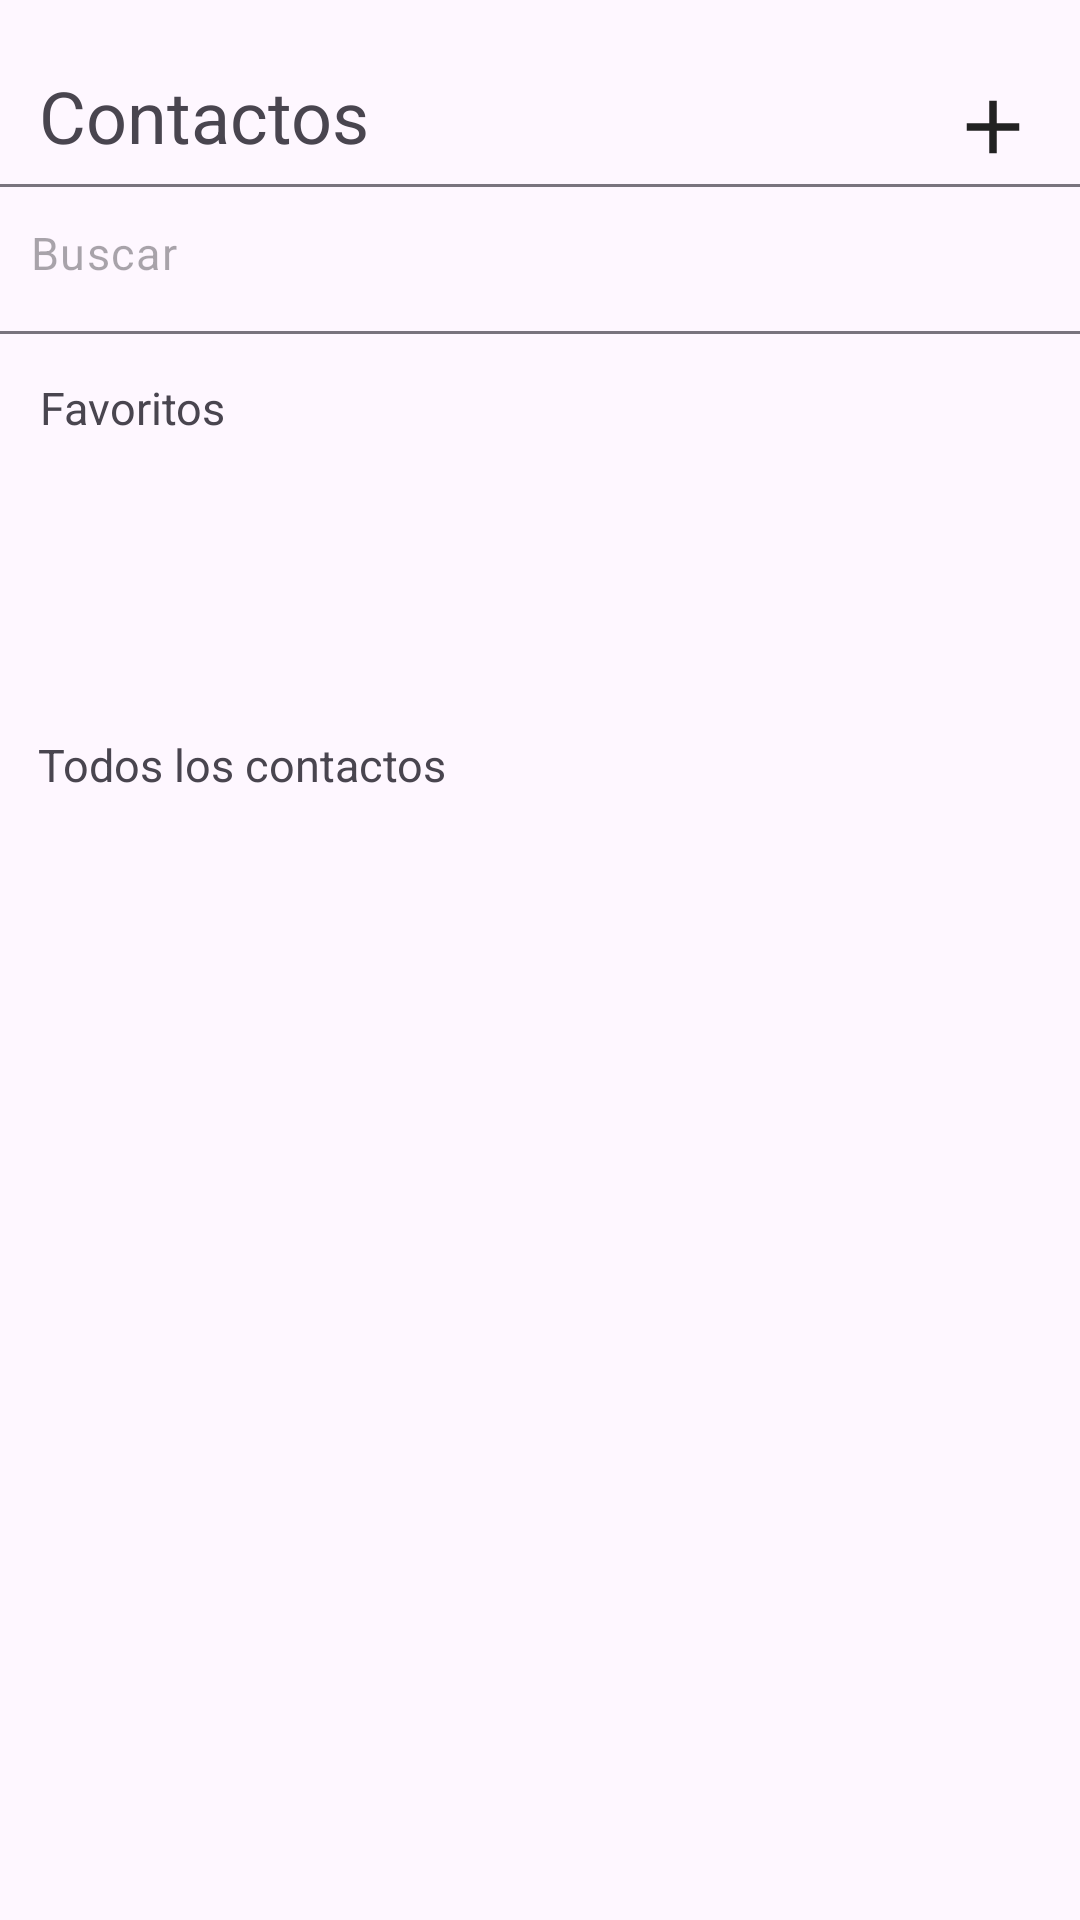

Locate icon controls on the screen. Image size 1080×1920, boxes as (x1, y1, x2, y2).
add: (966, 100, 1020, 154)
